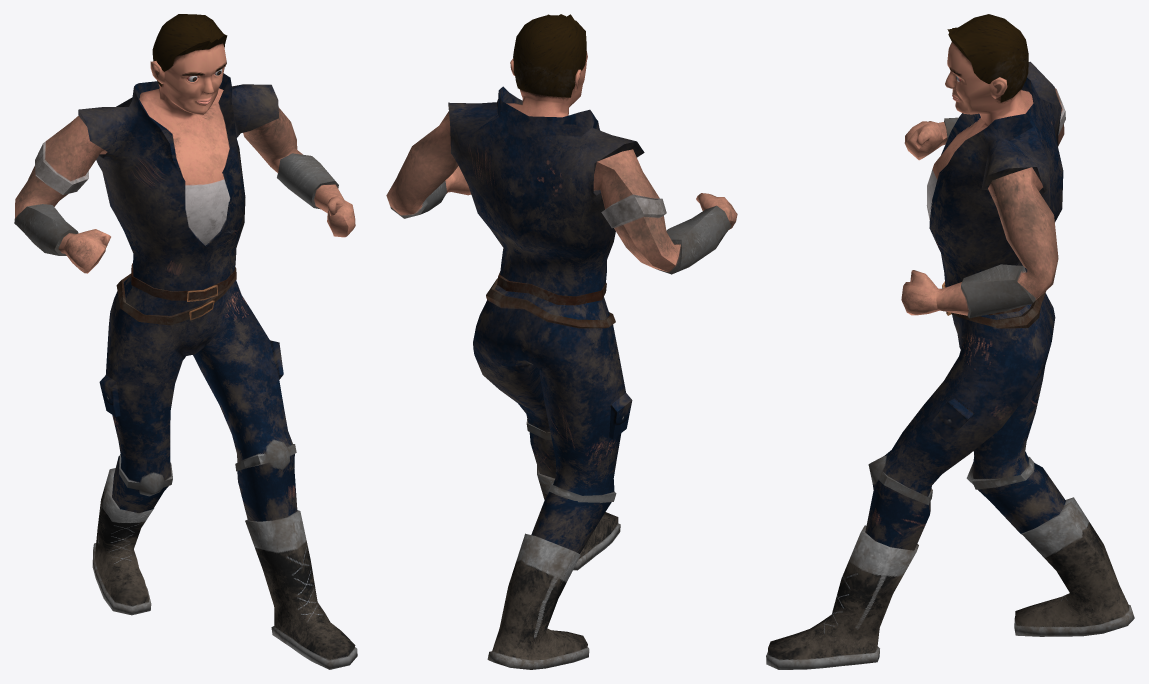
The model's file is Anim_ataque_d1_jugador.0027.obj.
The picture shows the model from 3 angles, left to right: view 1: azimuth 30°, elevation 25°; view 2: azimuth 150°, elevation 25°; view 3: azimuth 270°, elevation 25°; orthographic projection. The views are drawn at different scales.
Parts seen in each view (by area): view 1: polySurface1; view 2: polySurface1; view 3: polySurface1.
Part boxes in pixels (left/top/right/bottom): polySurface1: left=14, top=14, right=357, bottom=669; polySurface1: left=386, top=14, right=737, bottom=669; polySurface1: left=766, top=14, right=1134, bottom=669.
Bounding box in the file's own units: 4.81 × 9.28 × 4.92.
